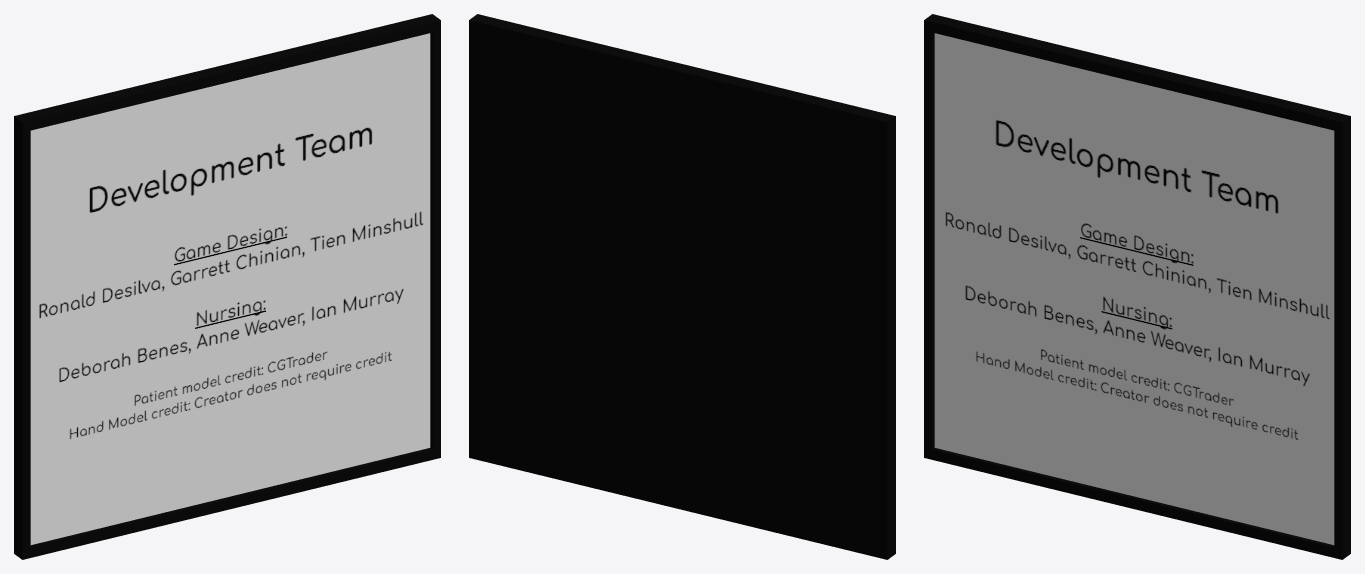
Rendered from CreditBoard.fbx.
3 views of the same model, side by side, from view 1: azimuth 30°, elevation 25°; view 2: azimuth 150°, elevation 25°; view 3: azimuth 330°, elevation 25° (orthographic).
Parts seen in each view (by area): view 1: CreditBoard; view 2: CreditBoard; view 3: CreditBoard.
Part boxes in pixels (x1,y1,x2,y2): CreditBoard: (14,14,440,559); CreditBoard: (469,14,895,559); CreditBoard: (924,14,1350,559).
Size of the model in its own units: 4 by 4 by 0.1385.
